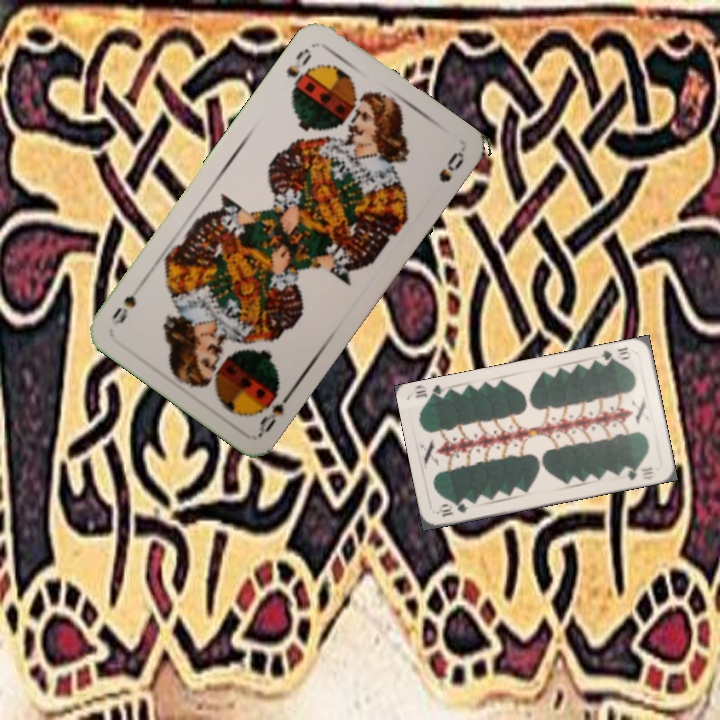G10: (598, 343, 634, 366), (434, 499, 472, 519)
SO: (254, 384, 297, 435), (282, 44, 315, 96)
